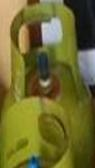cylinder: (1, 1, 95, 168)
